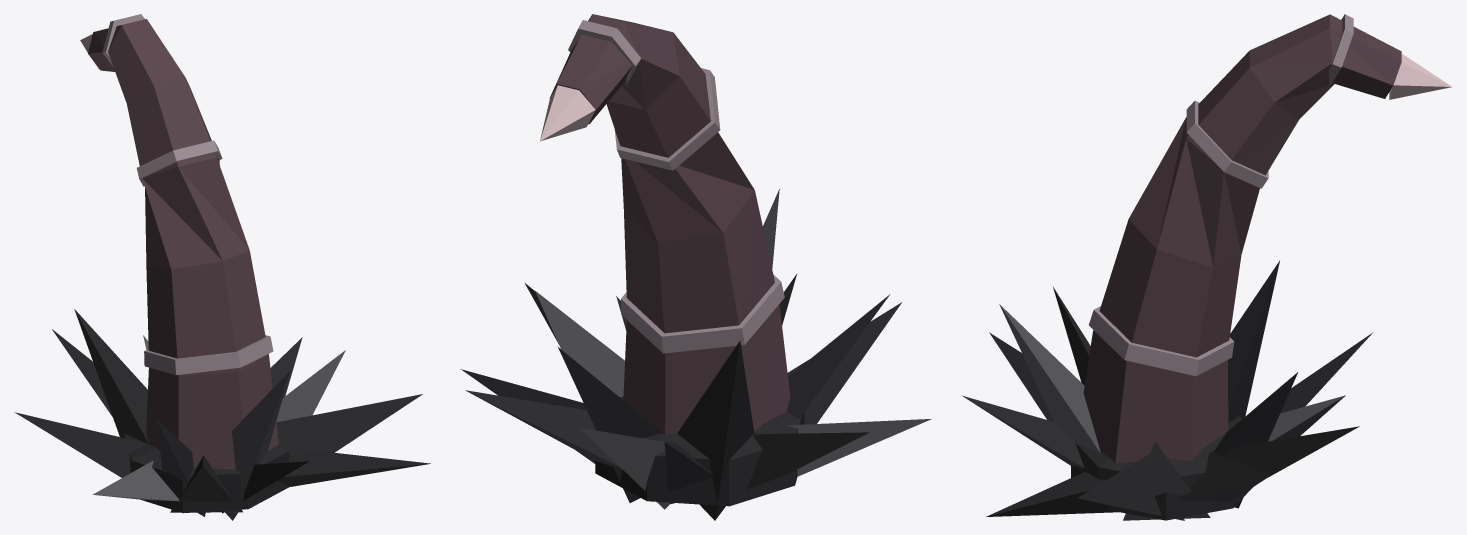
Rendered from twisted_support_small.obj.
The picture shows the model from 3 angles, left to right: view 1: azimuth 30°, elevation 25°; view 2: azimuth 150°, elevation 25°; view 3: azimuth 270°, elevation 25°; orthographic projection. The views are drawn at different scales.
Parts seen in each view (by area): view 1: twisted_support_small_17, twisted_support_small_15, twisted_support_small_0, twisted_support_small_7, twisted_support_small_13, twisted_support_small_14, twisted_support_small_8, twisted_support_small_19, twisted_support_small_1, twisted_support_small_9, twisted_support_small_11, twisted_support_small_10 (+4 smaller); view 2: twisted_support_small_17, twisted_support_small_0, twisted_support_small_7, twisted_support_small_19, twisted_support_small_3, twisted_support_small_4, twisted_support_small_8, twisted_support_small_1, twisted_support_small_10, twisted_support_small_9, twisted_support_small_11, twisted_support_small_5 (+6 smaller); view 3: twisted_support_small_17, twisted_support_small_13, twisted_support_small_0, twisted_support_small_7, twisted_support_small_19, twisted_support_small_14, twisted_support_small_3, twisted_support_small_2, twisted_support_small_12, twisted_support_small_15, twisted_support_small_4, twisted_support_small_1 (+7 smaller).
Boxes of the visible parts, left/top/right/bottom form: twisted_support_small_17: left=88, top=19, right=278, bottom=469; twisted_support_small_15: left=251, top=394, right=422, bottom=507; twisted_support_small_0: left=124, top=433, right=288, bottom=513; twisted_support_small_7: left=74, top=309, right=149, bottom=444; twisted_support_small_13: left=223, top=370, right=290, bottom=520; twisted_support_small_14: left=277, top=448, right=430, bottom=487; twisted_support_small_8: left=14, top=412, right=147, bottom=477; twisted_support_small_19: left=144, top=335, right=273, bottom=374; twisted_support_small_1: left=276, top=350, right=345, bottom=422; twisted_support_small_9: left=92, top=460, right=180, bottom=501; twisted_support_small_11: left=170, top=455, right=242, bottom=512; twisted_support_small_10: left=156, top=419, right=205, bottom=516; twisted_support_small_17: left=549, top=14, right=790, bottom=434; twisted_support_small_0: left=595, top=396, right=804, bottom=506; twisted_support_small_7: left=677, top=340, right=754, bottom=520; twisted_support_small_19: left=621, top=274, right=784, bottom=353; twisted_support_small_3: left=465, top=390, right=622, bottom=469; twisted_support_small_4: left=558, top=347, right=662, bottom=502; twisted_support_small_8: left=746, top=432, right=869, bottom=489; twisted_support_small_1: left=535, top=291, right=624, bottom=397; twisted_support_small_10: left=786, top=294, right=890, bottom=418; twisted_support_small_9: left=786, top=419, right=931, bottom=476; twisted_support_small_11: left=787, top=302, right=901, bottom=424; twisted_support_small_5: left=579, top=427, right=679, bottom=509; twisted_support_small_17: left=1083, top=14, right=1401, bottom=463; twisted_support_small_13: left=999, top=304, right=1100, bottom=452; twisted_support_small_0: left=1071, top=416, right=1252, bottom=520; twisted_support_small_7: left=1227, top=260, right=1279, bottom=422; twisted_support_small_19: left=1089, top=306, right=1234, bottom=376; twisted_support_small_14: left=986, top=472, right=1118, bottom=516; twisted_support_small_3: left=1212, top=426, right=1359, bottom=477; twisted_support_small_2: left=1178, top=451, right=1270, bottom=501; twisted_support_small_12: left=962, top=395, right=1084, bottom=467; twisted_support_small_15: left=1077, top=453, right=1184, bottom=520; twisted_support_small_4: left=1213, top=372, right=1297, bottom=508; twisted_support_small_1: left=1123, top=441, right=1210, bottom=520.
Size of the model in its own units: 2.96 by 3.47 by 3.25.
